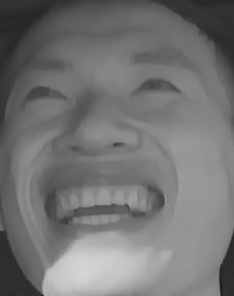eye: (126, 72, 186, 103), (20, 78, 71, 106)
mouth: (35, 167, 172, 238)
